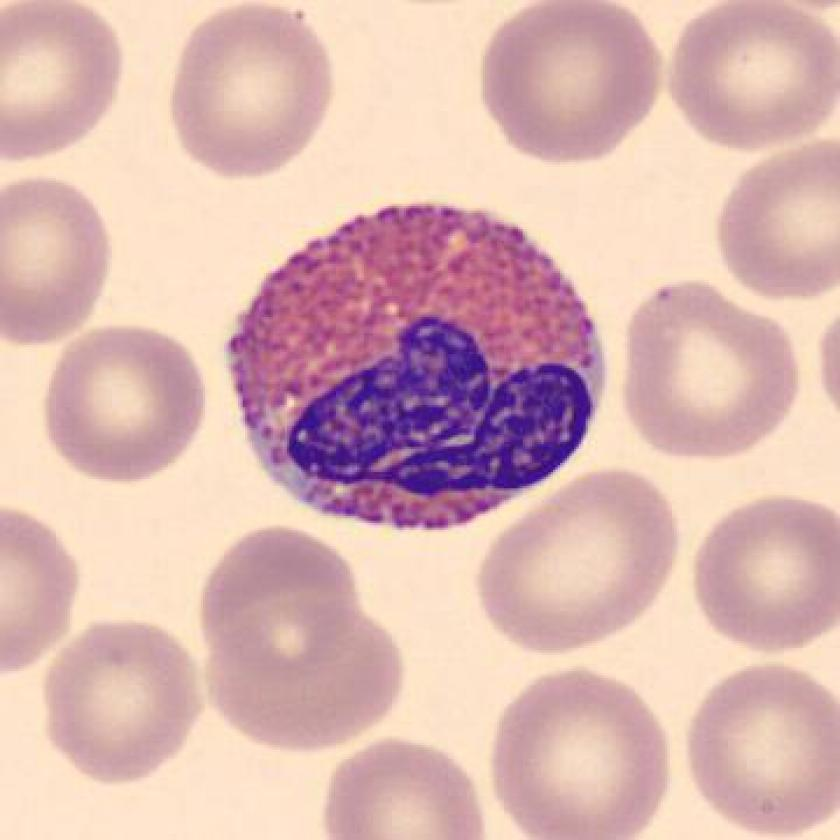eosinophil: (213, 193, 622, 543)
